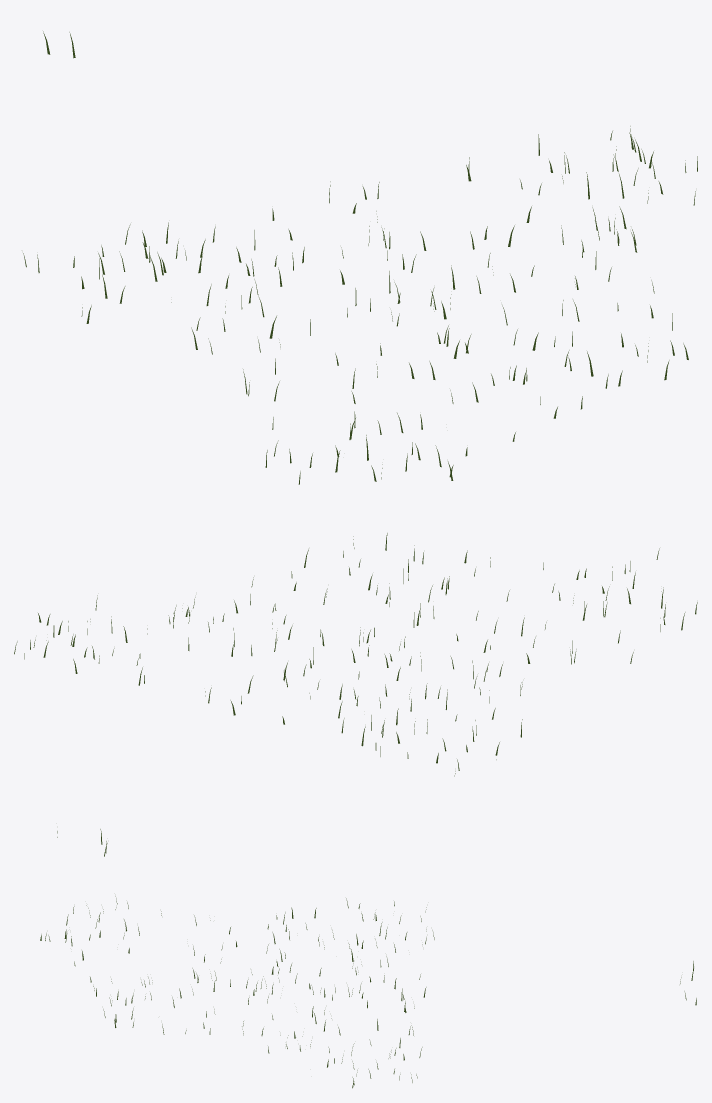
The picture shows the model from 3 angles, top to bottom: view 1: azimuth 30°, elevation 25°; view 2: azimuth 150°, elevation 25°; view 3: azimuth 270°, elevation 25°; orthographic projection. The views are drawn at different scales.
Visible parts, largest first — view 1: GrassPatch; view 2: GrassPatch; view 3: GrassPatch.
Part boxes in pixels (x1=…): GrassPatch: x1=23, y1=31, x2=697, y2=484; GrassPatch: x1=14, y1=533, x2=697, y2=856; GrassPatch: x1=40, y1=896, x2=696, y2=1088.
Size of the model in its own units: 12.31 by 0.4896 by 19.23.
